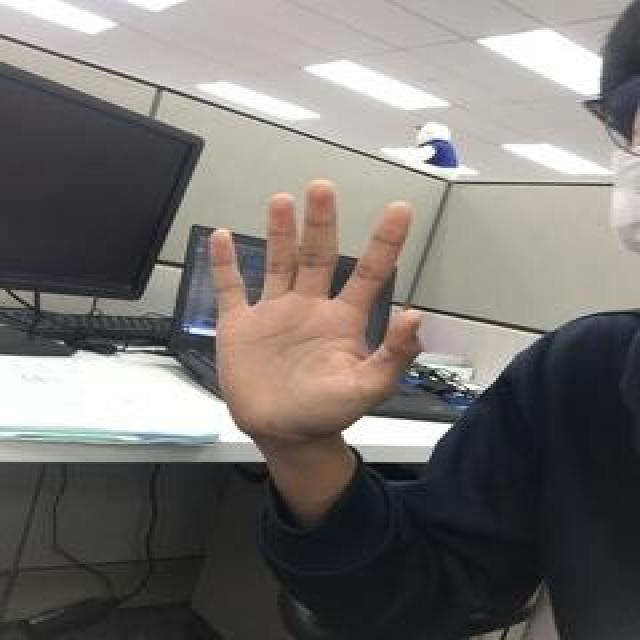no-gloves: (206, 178, 427, 440)
